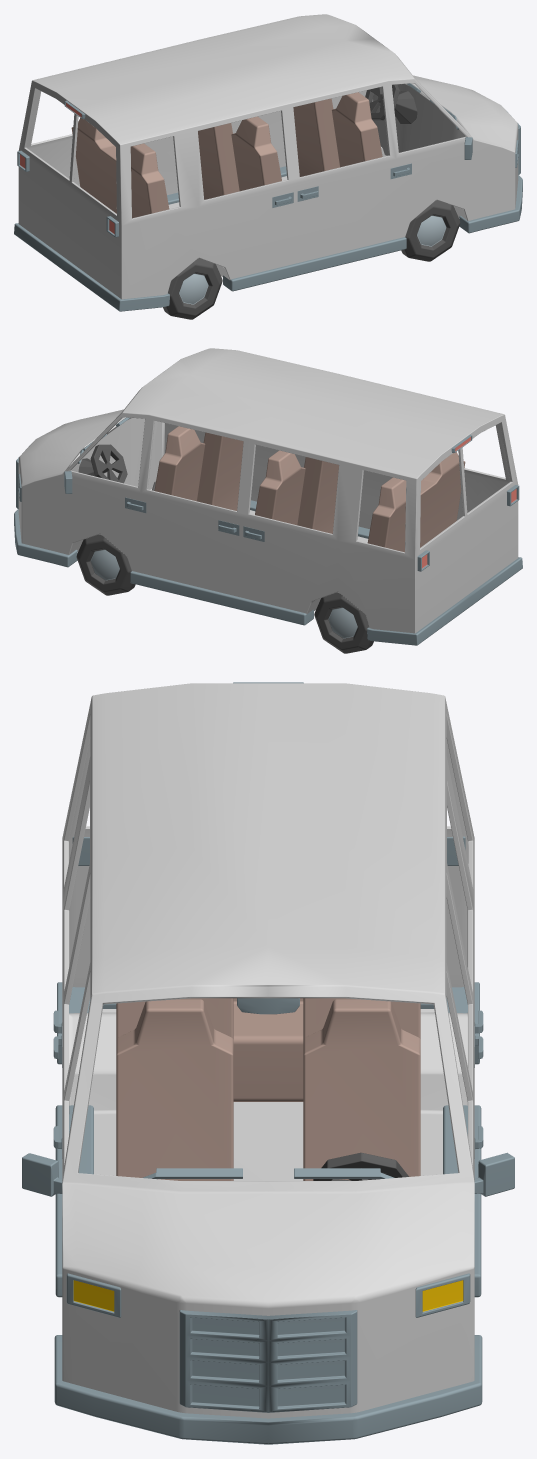
File: van.glb
3 renders of one model, top to bottom at view 1: azimuth 30°, elevation 25°; view 2: azimuth 150°, elevation 25°; view 3: azimuth 270°, elevation 25°, orthographic. The views are drawn at different scales.
Visible parts, largest first — view 1: Circle.006_Circle; view 2: Circle.006_Circle; view 3: Circle.006_Circle.
Part boxes in pixels (x1,y1,x2,y2): Circle.006_Circle: [14, 14, 522, 319]; Circle.006_Circle: [14, 348, 522, 653]; Circle.006_Circle: [22, 682, 514, 1444].
Bounding box in the file's own units: 23.38 × 10.06 × 11.33.
